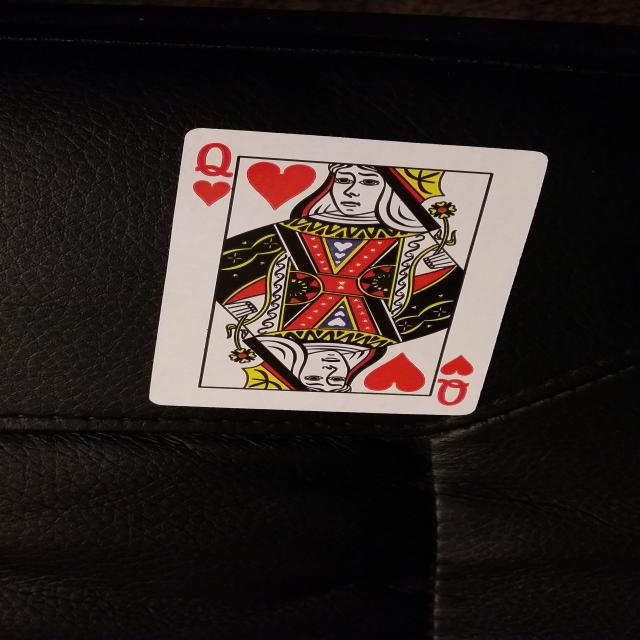Qh: (185, 135, 244, 214), (420, 346, 487, 415)
